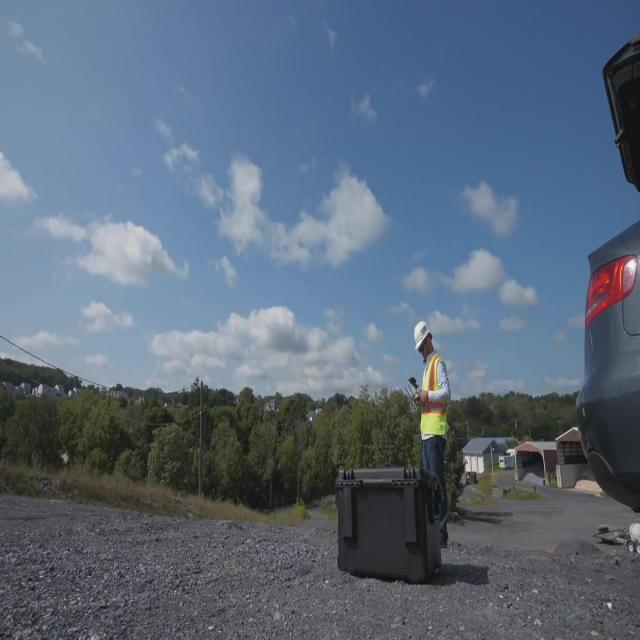Reflective-Jacket: (409, 350, 459, 454)
Safety-Helmet: (408, 310, 438, 356)
